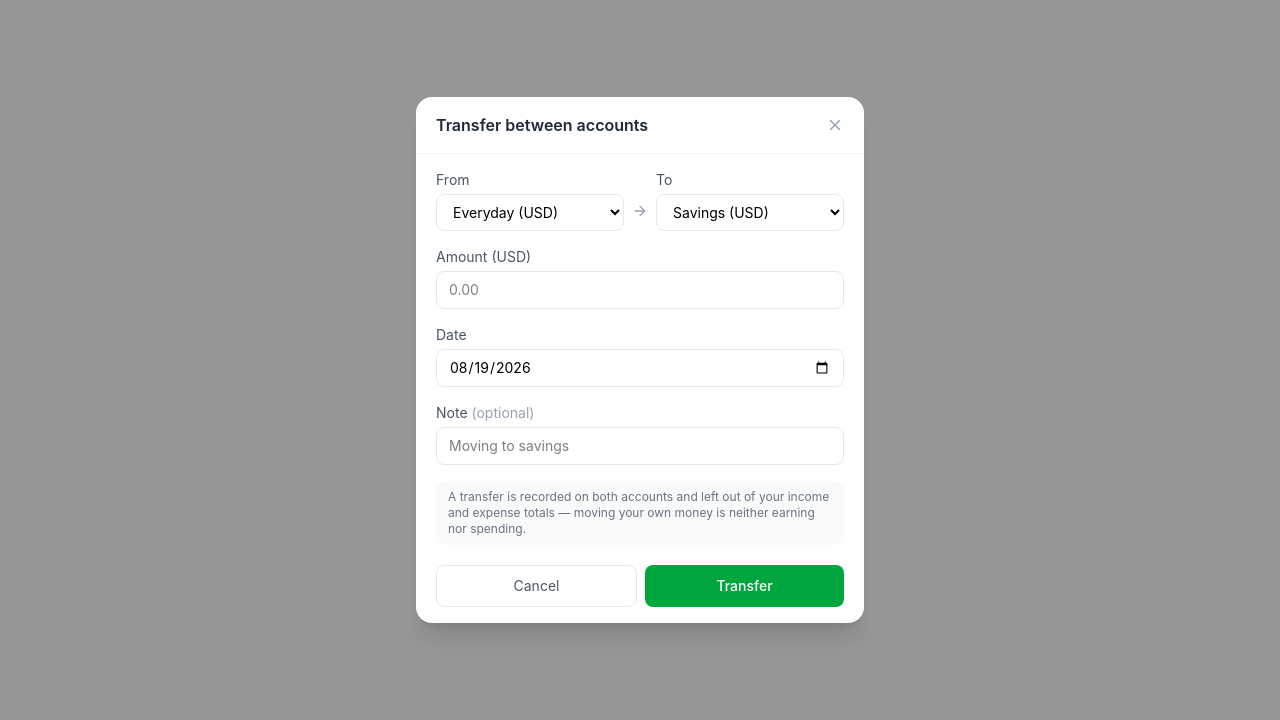
Test case: TransferForm › refuses a transfer to the same account
The width and height of the screenshot is (1280, 720).
Select "Everyday (USD)" in the dropdown labelled "From" at point(530, 212), box [436,194,624,231]
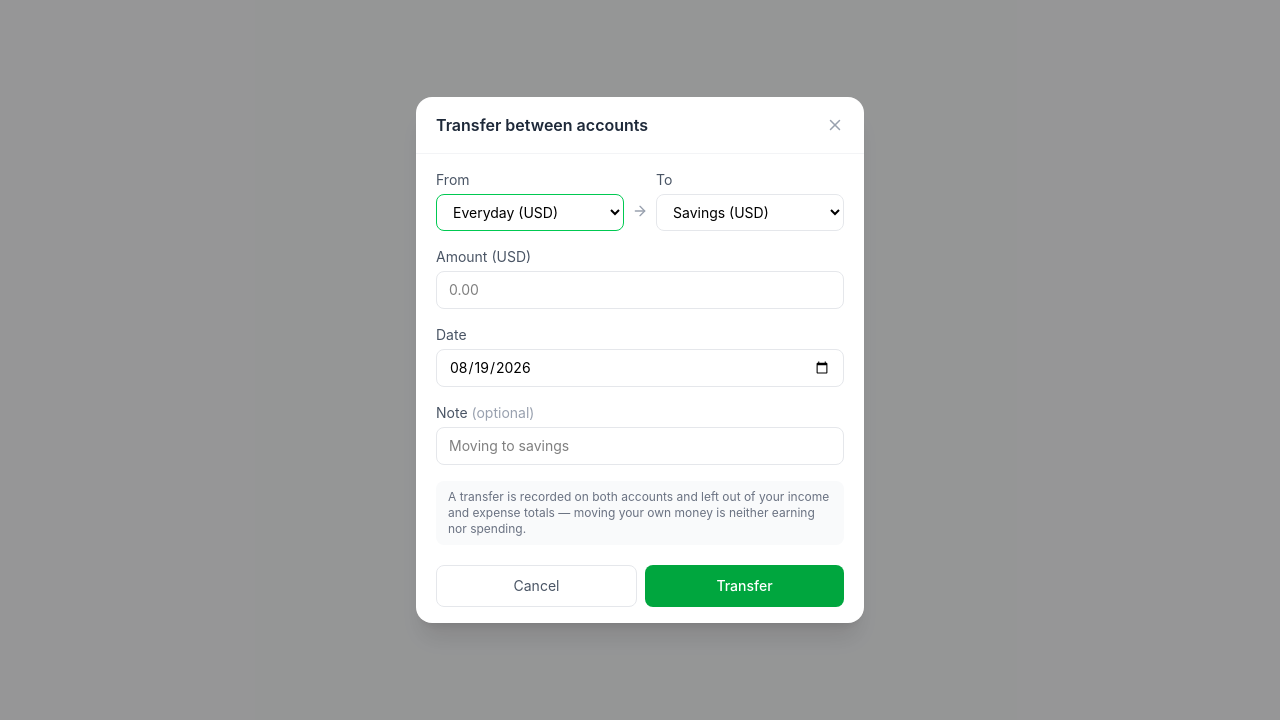
Select "Everyday (USD)" in the dropdown labelled "To" at point(750, 212), box [656,194,844,231]
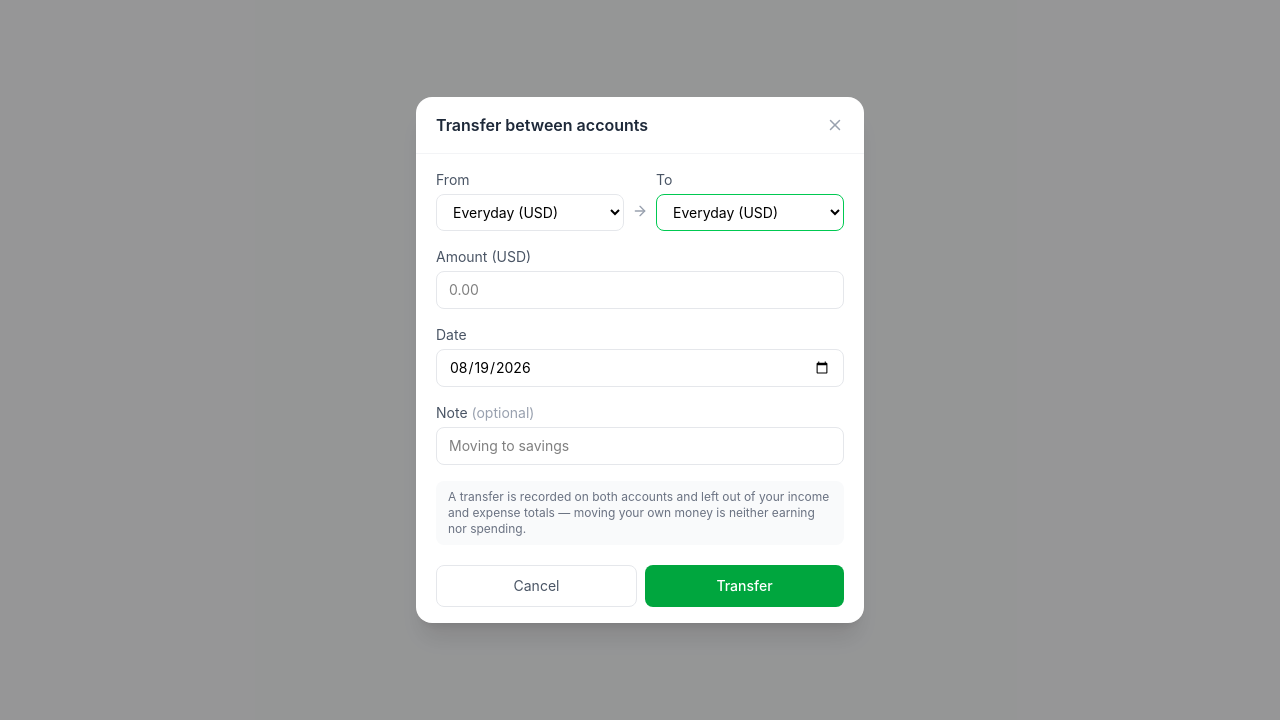
Type "250" into the number field labelled "Amount (USD)".
click(640, 290); type("250")  # box [436,271,844,309]
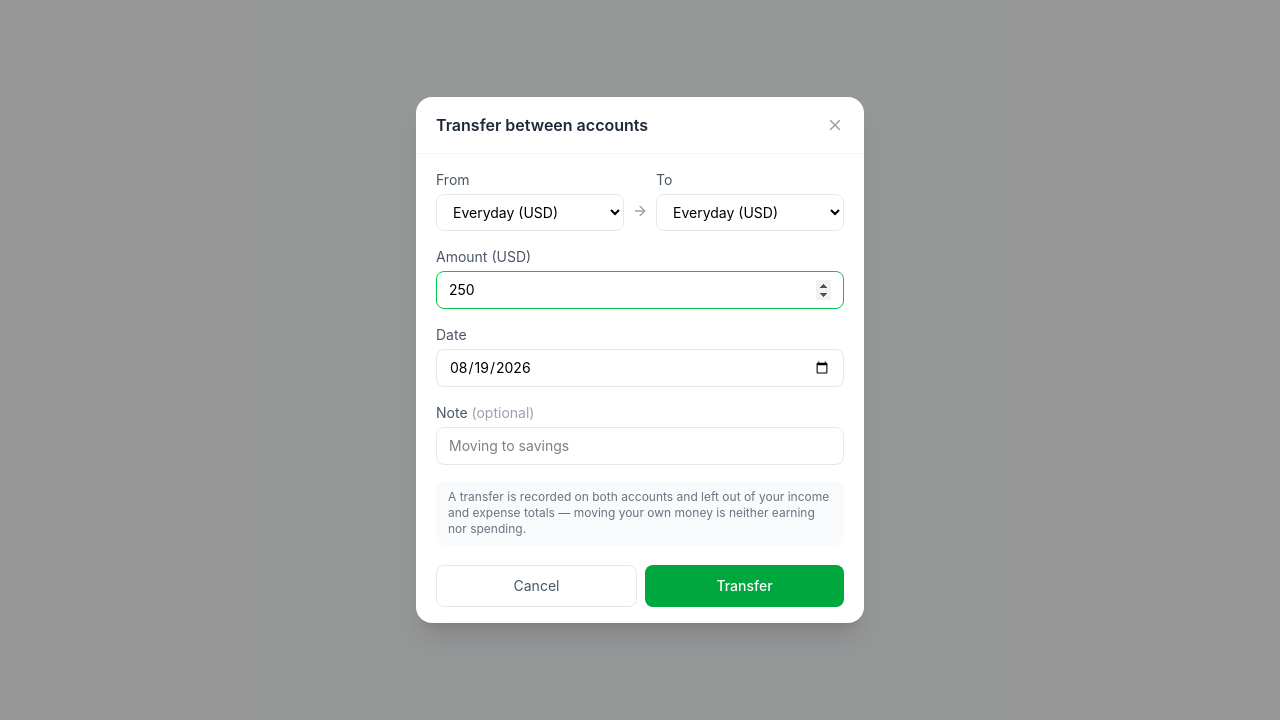
Click the button "Transfer".
click(744, 586)  # box [645,565,844,607]
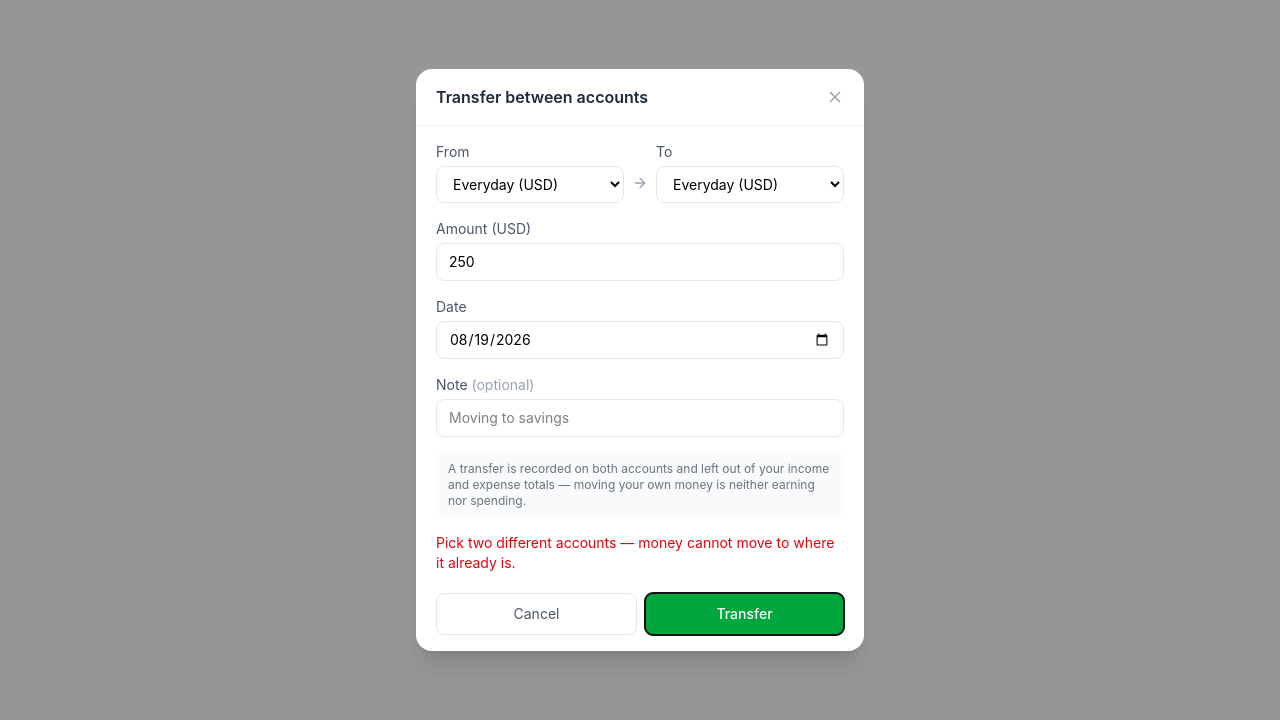
Check: the message shows "two different accounts", box [436,534,834,571]
